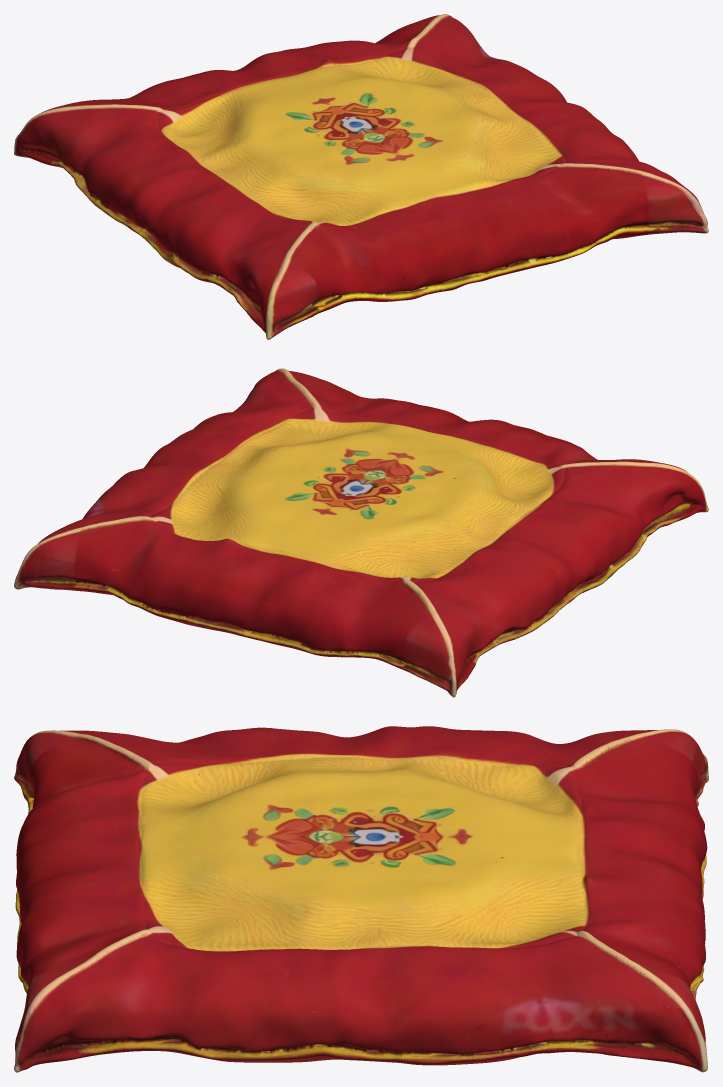
The picture shows the model from 3 angles, top to bottom: view 1: azimuth 30°, elevation 25°; view 2: azimuth 150°, elevation 25°; view 3: azimuth 270°, elevation 25°; orthographic projection. The views are drawn at different scales.
Bounding box in the file's own units: 2 × 0.3542 × 2.
Materials: 1 (1 with a texture image).
